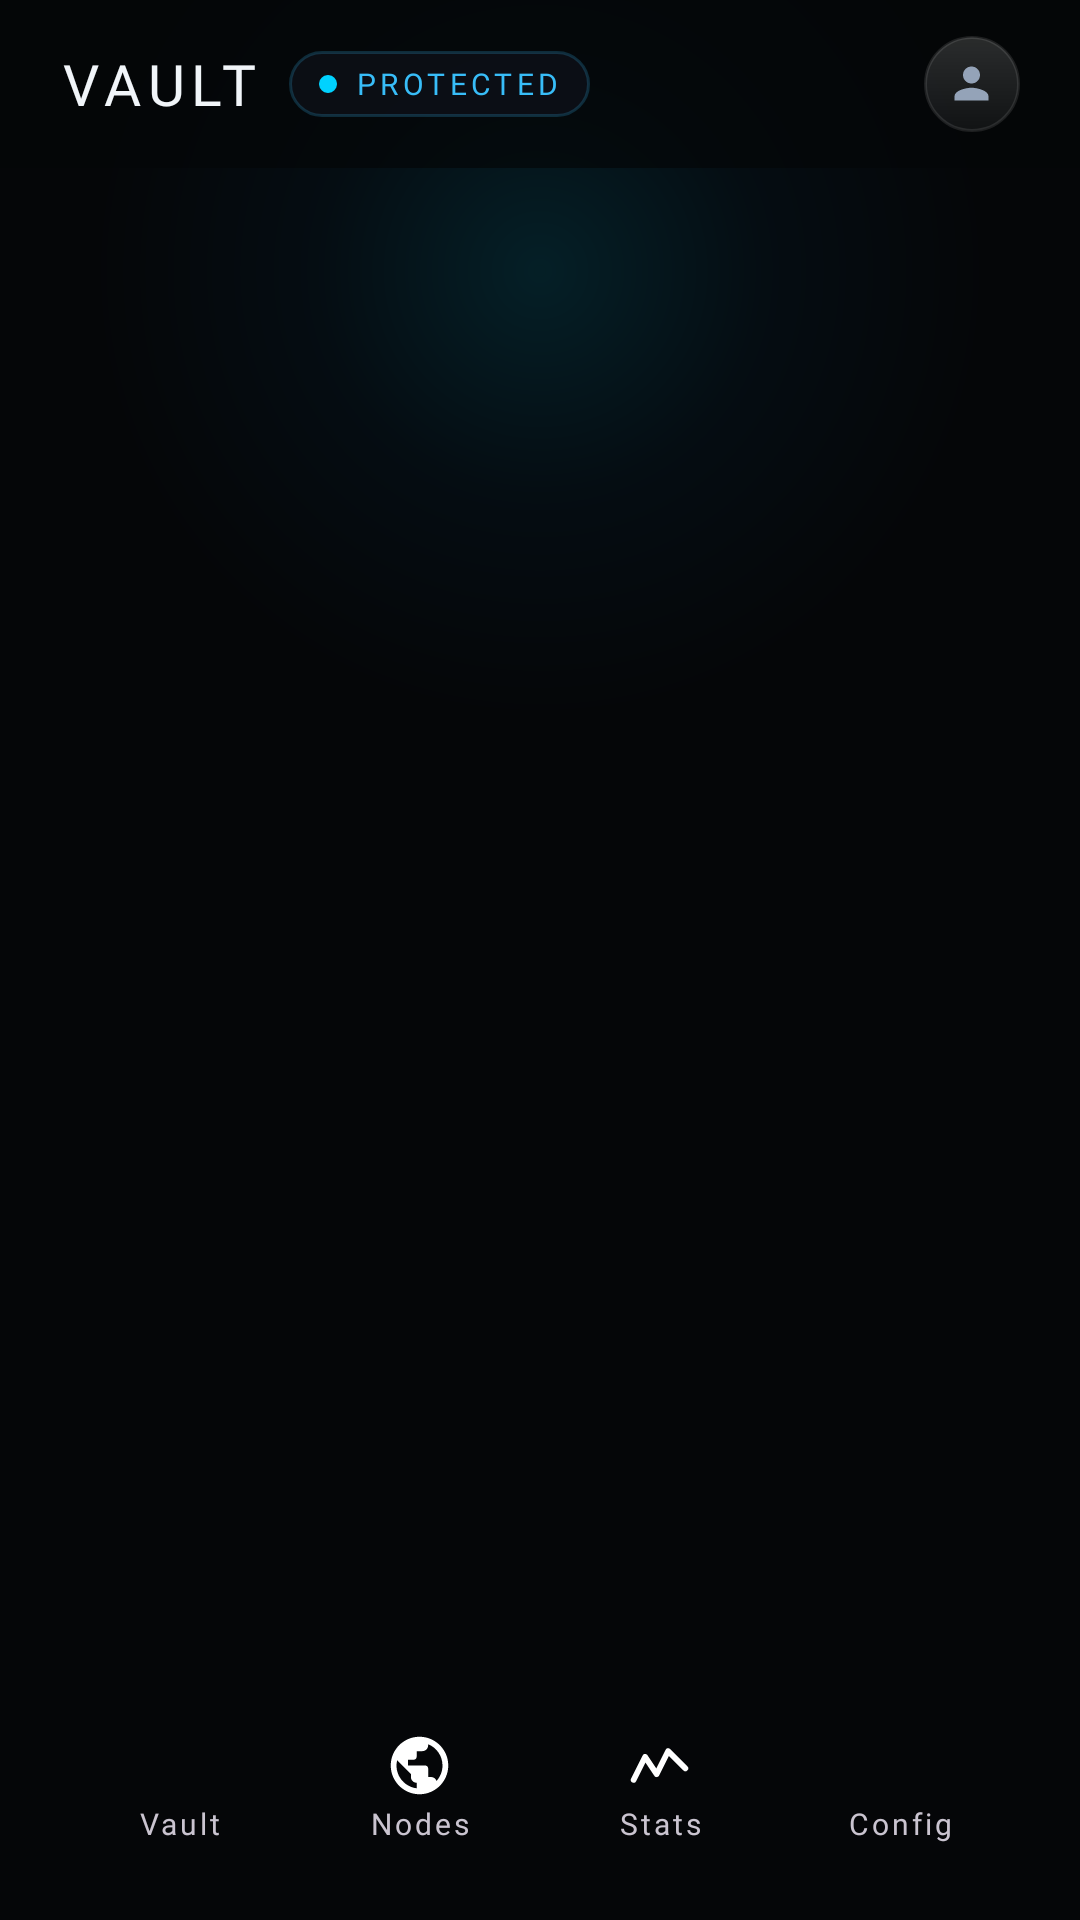

Icons on this 1080 x 1920 Android screen, each with the point to tap as (x=x, y=y):
chart: (x=659, y=1765)
Profile: (x=971, y=83)
public: (x=419, y=1765)
